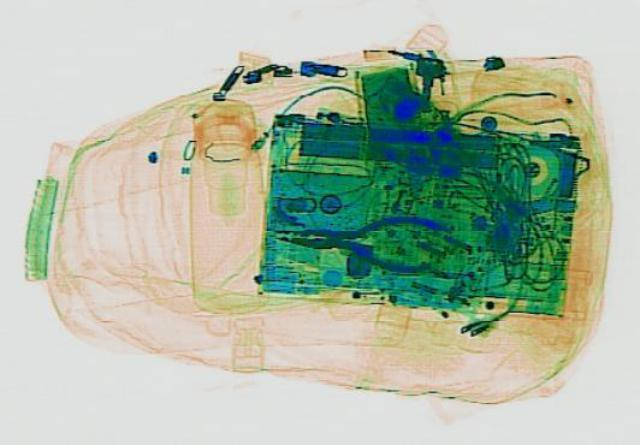Pliers: (271, 204, 445, 273)
